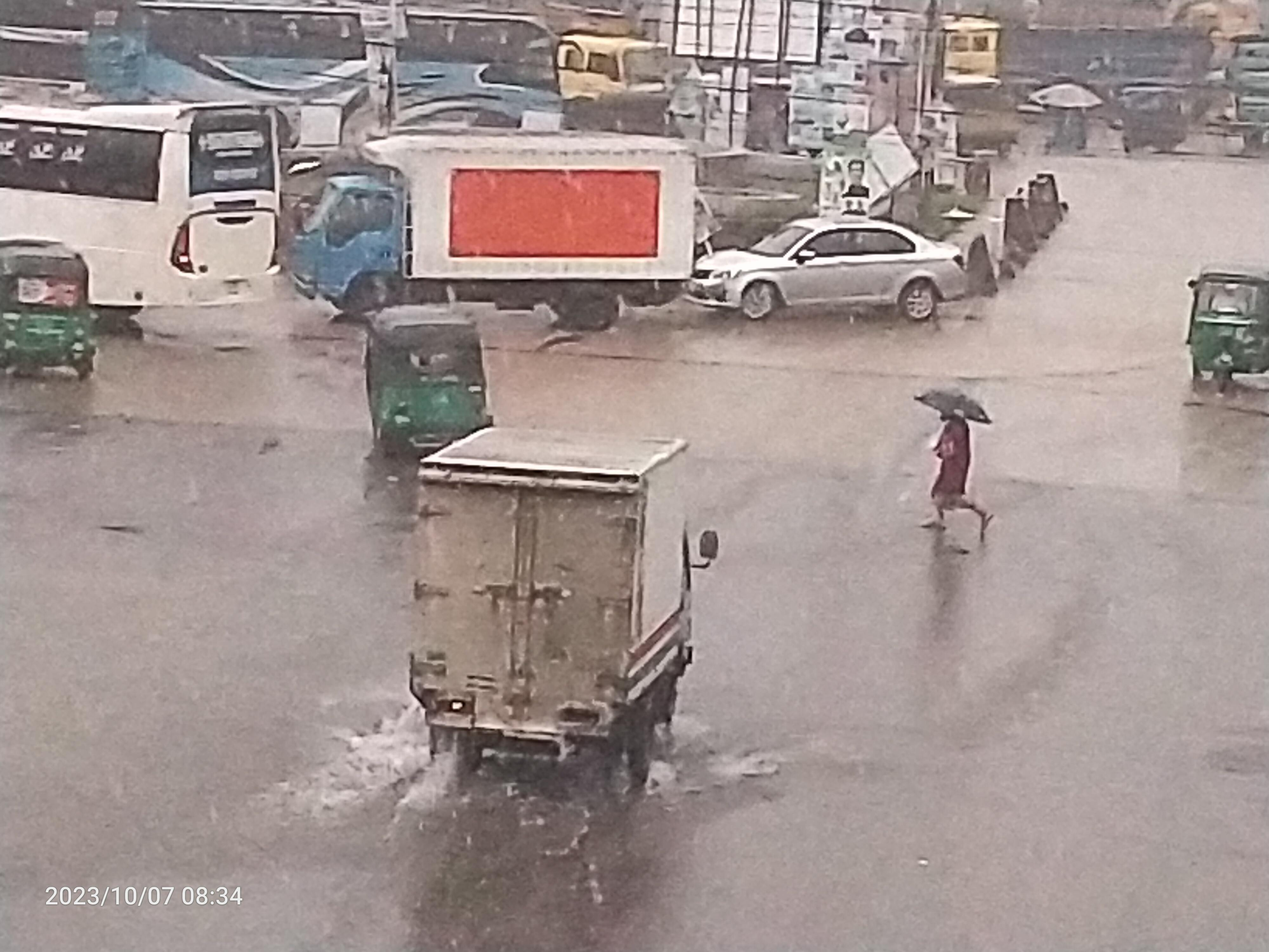Bus: (0, 77, 311, 353), (13, 1, 385, 187), (363, 0, 591, 162)
Car: (379, 397, 754, 849), (672, 196, 1009, 340)
Truck: (278, 101, 720, 364), (924, 0, 1227, 137), (508, 0, 701, 142)
